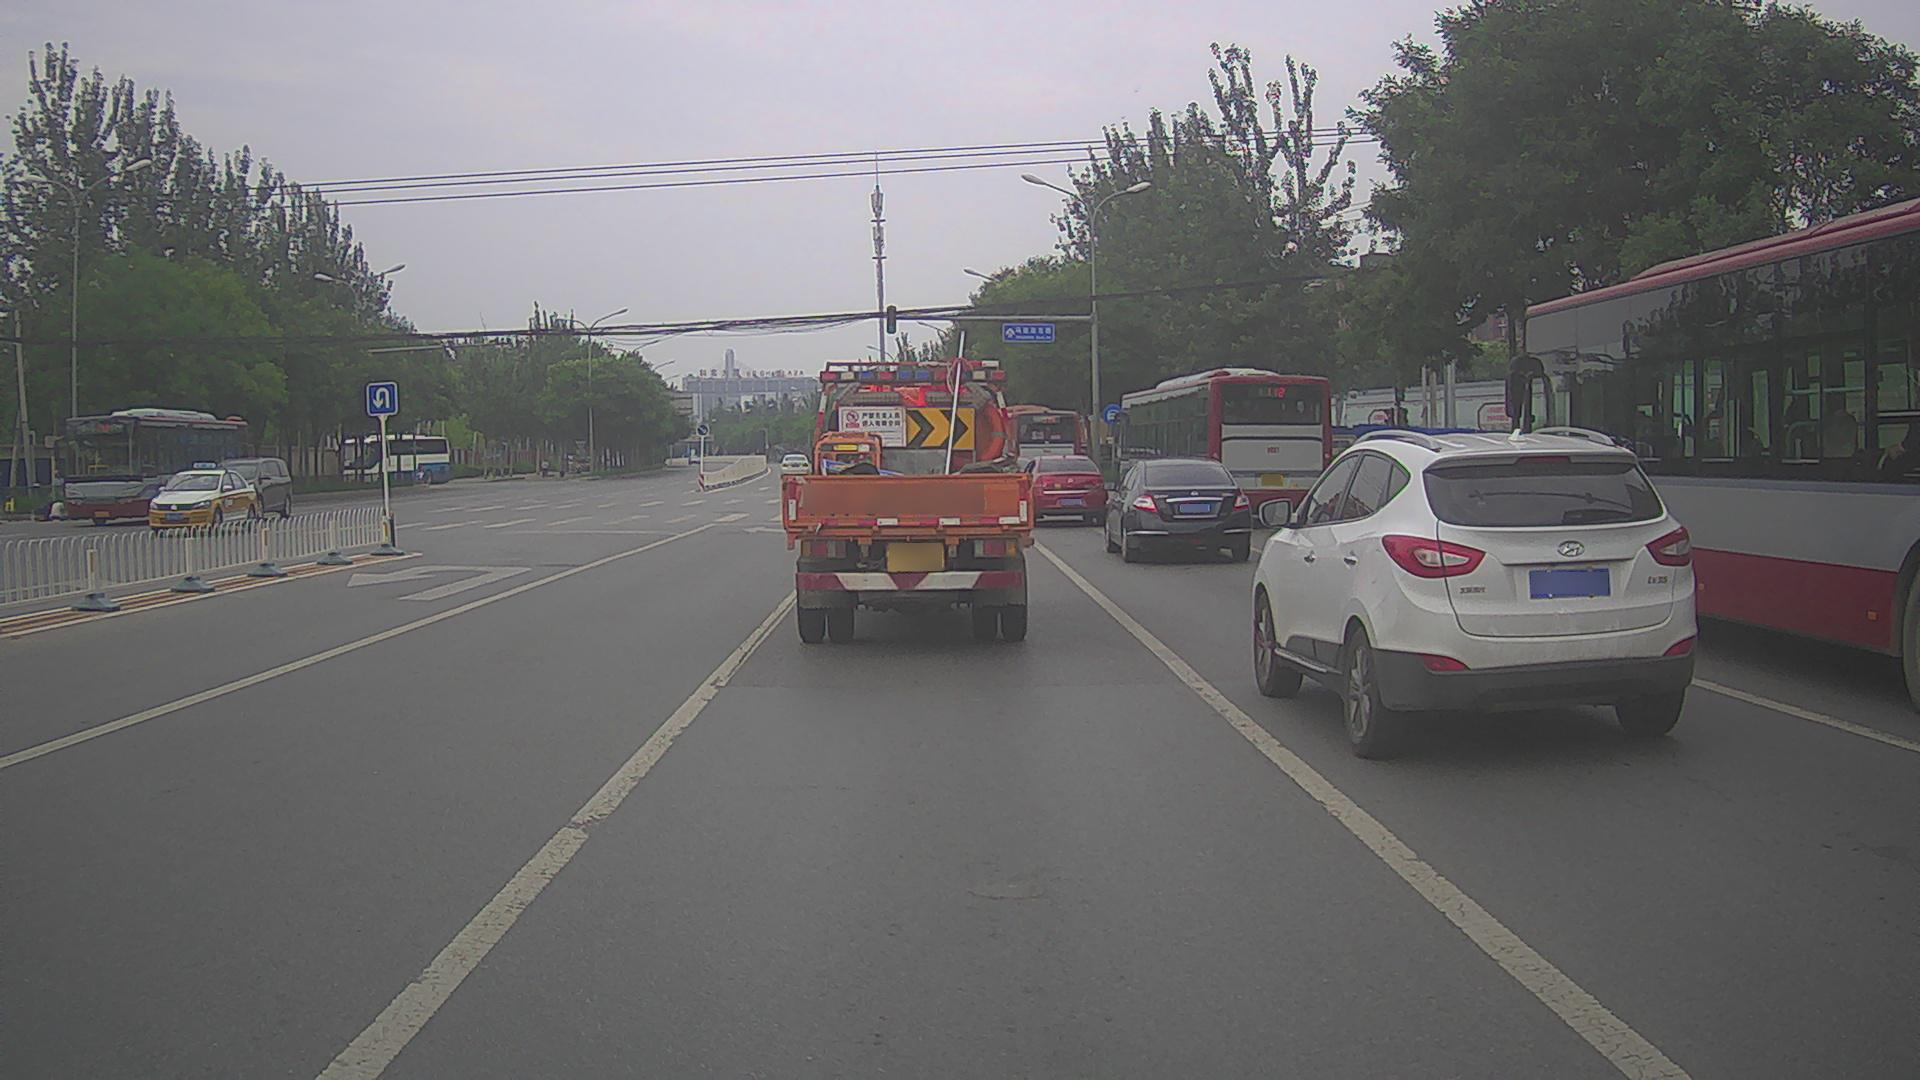bus: (1506, 198, 1920, 701), (1111, 369, 1330, 521), (52, 408, 248, 525), (962, 404, 1080, 493), (335, 433, 449, 484)
car: (1251, 433, 1696, 758), (1102, 457, 1251, 564), (147, 462, 257, 535), (1017, 454, 1106, 526), (212, 456, 293, 520), (779, 453, 809, 480), (687, 454, 700, 465)
cyclist: (541, 458, 550, 479)
ignore: (564, 454, 589, 473)
pedestrian: (53, 470, 66, 508), (48, 497, 66, 522)
truck: (780, 360, 1034, 641)
